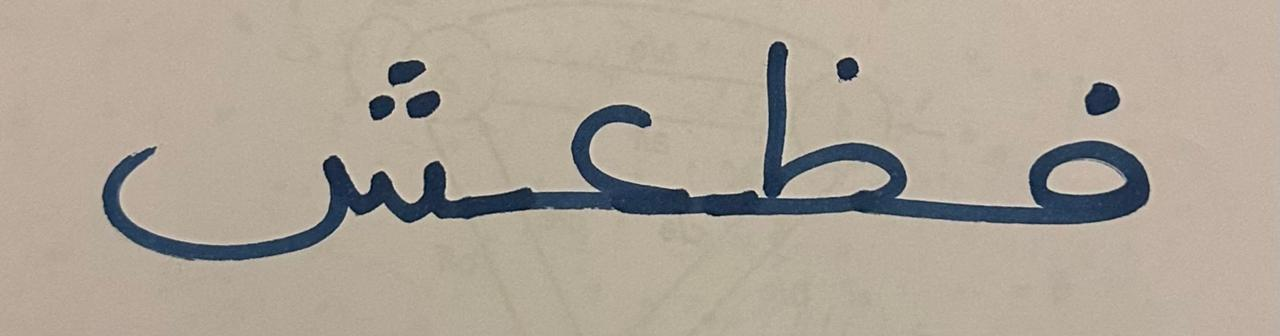ain: (499, 7, 709, 274)
feh: (944, 20, 1188, 291)
tah: (65, 12, 496, 302)
zain: (713, 0, 939, 287)
